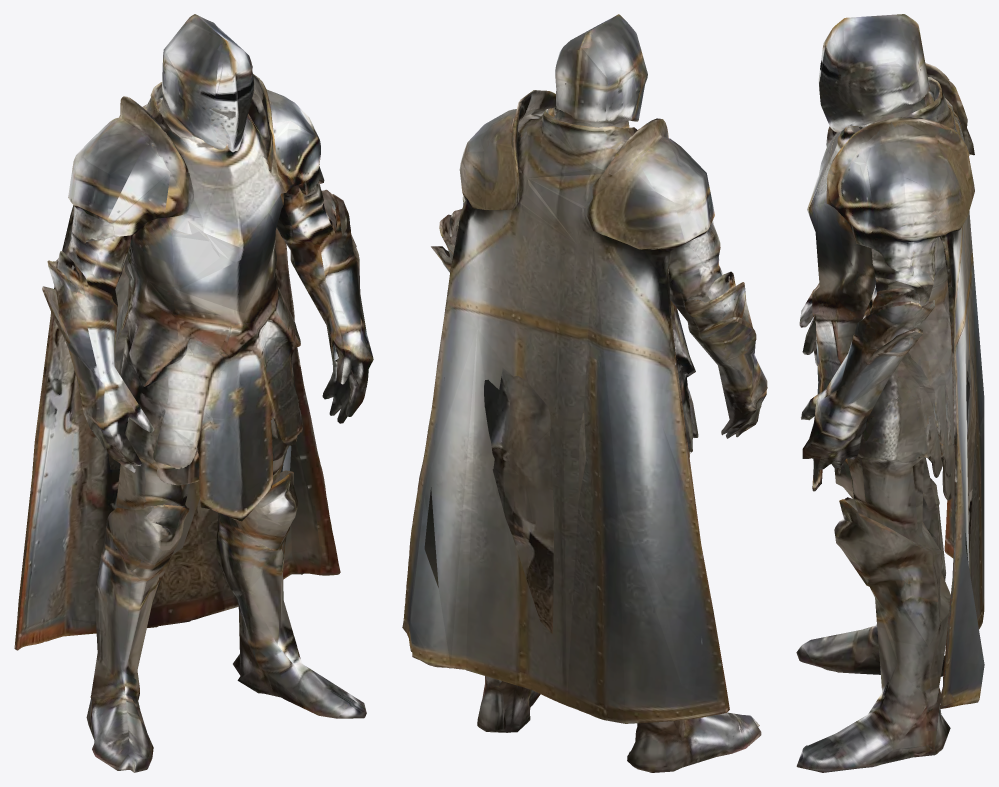
Rendered from soldado.glb.
3 renders of one model, left to right at view 1: azimuth 30°, elevation 25°; view 2: azimuth 150°, elevation 25°; view 3: azimuth 270°, elevation 25°, orthographic.
Visible parts, largest first — view 1: Object_4; view 2: Object_4; view 3: Object_4.
Part boxes in pixels (x1,y1,x2,y2): Object_4: (14, 14, 373, 772); Object_4: (402, 14, 767, 772); Object_4: (796, 14, 984, 772).
Size of the model in its own units: 0.9598 by 1.97 by 0.4836.
Materials: 1 (1 with a texture image).
